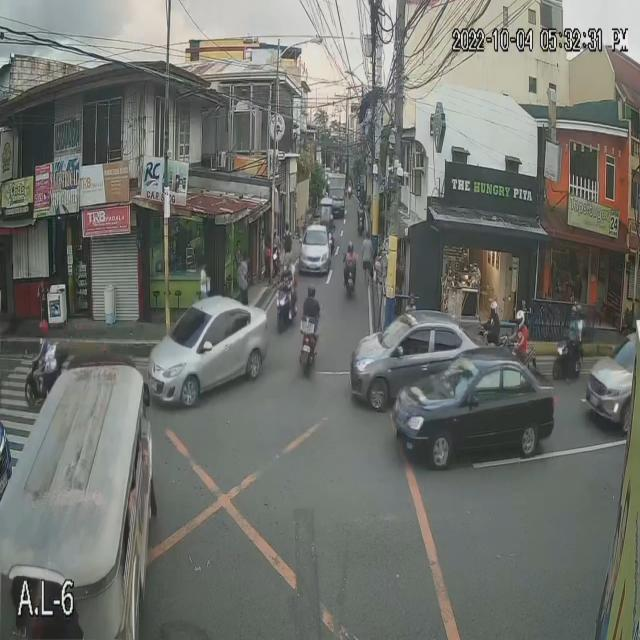Full-Faced: (34, 318, 51, 347), (510, 307, 526, 331), (302, 282, 316, 300), (344, 238, 356, 254), (282, 253, 292, 272), (488, 302, 498, 319)
